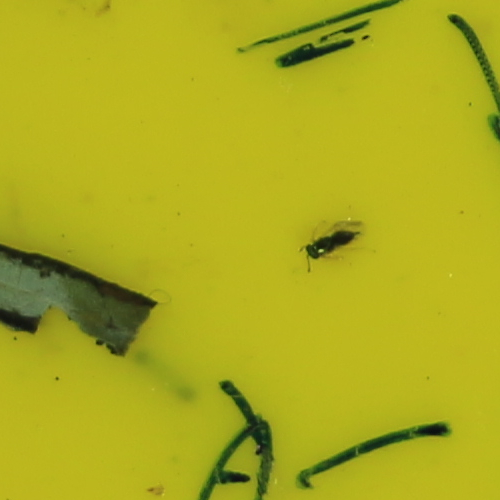Psyllaephagus: (303, 225, 360, 261)
